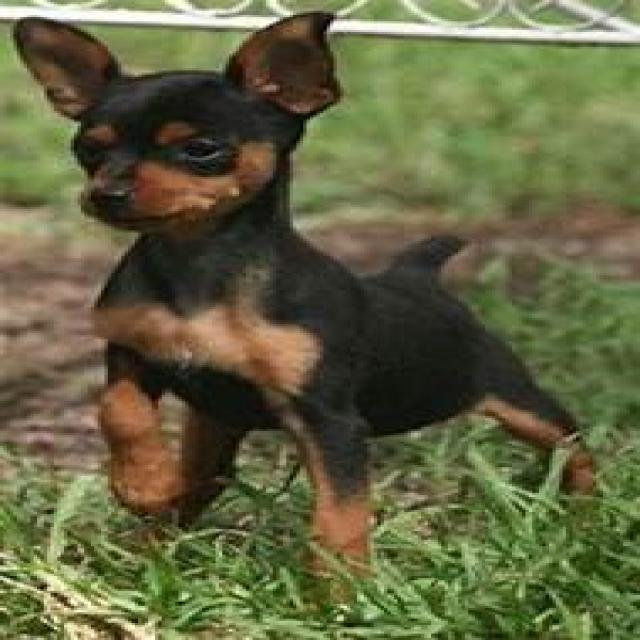dog: (11, 9, 599, 590)
